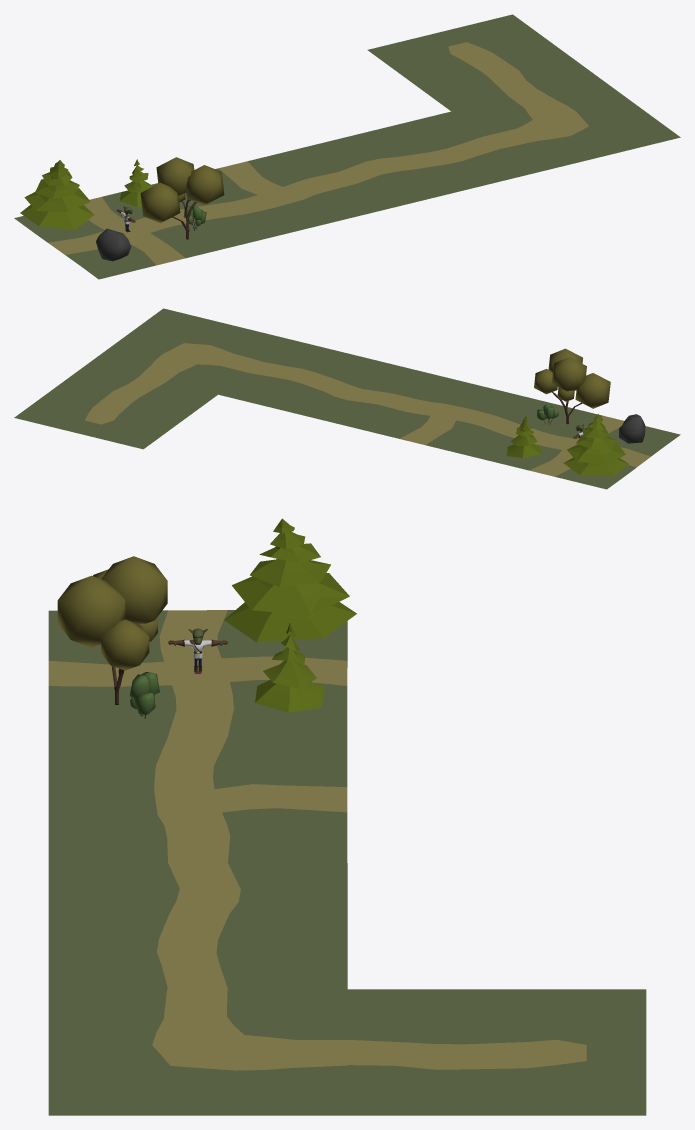
The model's file is GameLevelTails.fbx.
3 views of the same model, one above another, from view 1: azimuth 30°, elevation 25°; view 2: azimuth 150°, elevation 25°; view 3: azimuth 270°, elevation 25° (orthographic). The views are drawn at different scales.
Visible parts, largest first — view 1: Level-line, Level-end, Level-turn, Level-tries, Level-cross, Forest-Forest-Trees, Forest-Spruce-1, Forest-Stone, Forest-Spruce-2; view 2: Level-end, Level-line, Level-turn, Level-tries, Level-cross, Forest-Forest-Trees, Forest-Spruce-1, Forest-Spruce-2, Forest-Stone; view 3: Level-turn, Level-end, Level-line, Level-tries, Level-cross, Forest-Spruce-1, Forest-Forest-Trees, Forest-Spruce-2, Forest-Bush.
Part boxes in pixels (bbox=[...]): Level-line: bbox=[306, 111, 534, 208]; Level-end: bbox=[367, 14, 596, 111]; Level-turn: bbox=[451, 76, 680, 172]; Level-tries: bbox=[184, 147, 389, 243]; Level-cross: bbox=[14, 183, 243, 279]; Forest-Forest-Trees: bbox=[140, 157, 224, 239]; Forest-Spruce-1: bbox=[20, 160, 93, 230]; Forest-Stone: bbox=[96, 228, 131, 261]; Forest-Spruce-2: bbox=[119, 159, 152, 207]; Level-end: bbox=[14, 363, 217, 449]; Level-line: bbox=[218, 340, 421, 426]; Level-turn: bbox=[89, 308, 292, 394]; Level-tries: bbox=[348, 371, 551, 457]; Level-cross: bbox=[477, 403, 680, 489]; Forest-Forest-Trees: bbox=[534, 348, 610, 424]; Forest-Spruce-1: bbox=[563, 414, 628, 476]; Forest-Spruce-2: bbox=[507, 416, 541, 458]; Forest-Stone: bbox=[619, 414, 645, 443]; Level-turn: bbox=[48, 989, 347, 1115]; Level-end: bbox=[347, 989, 646, 1115]; Level-line: bbox=[48, 863, 347, 989]; Level-tries: bbox=[48, 736, 347, 862]; Level-cross: bbox=[48, 610, 347, 736]; Forest-Spruce-1: bbox=[224, 518, 356, 642]; Forest-Forest-Trees: bbox=[57, 556, 167, 704]; Forest-Spruce-2: bbox=[255, 623, 324, 712]; Forest-Bush: bbox=[129, 672, 159, 718].
Size of the model in its own units: 4006 by 533 by 2000.
